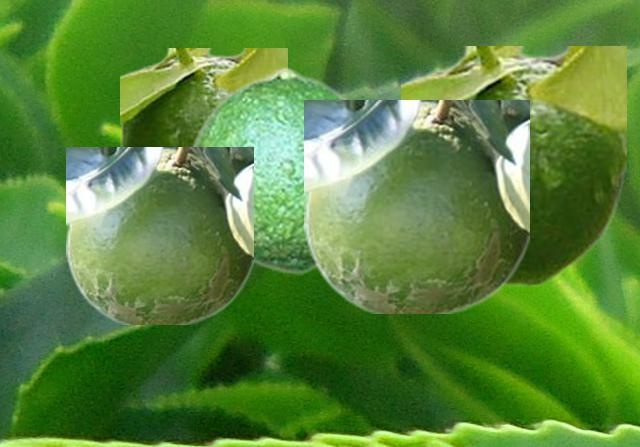dalandan: (401, 46, 625, 285), (304, 100, 528, 312), (188, 66, 353, 274), (66, 147, 252, 323), (120, 48, 286, 146)
